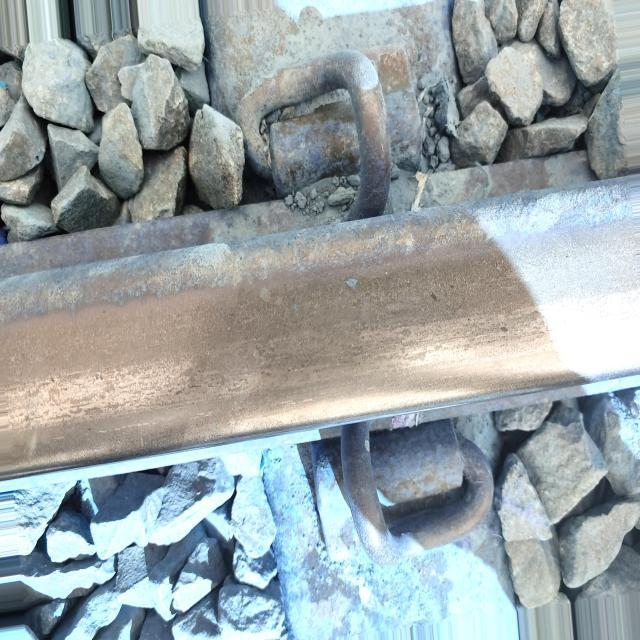Good Fasteners: (294, 382, 496, 602), (233, 26, 418, 231)
